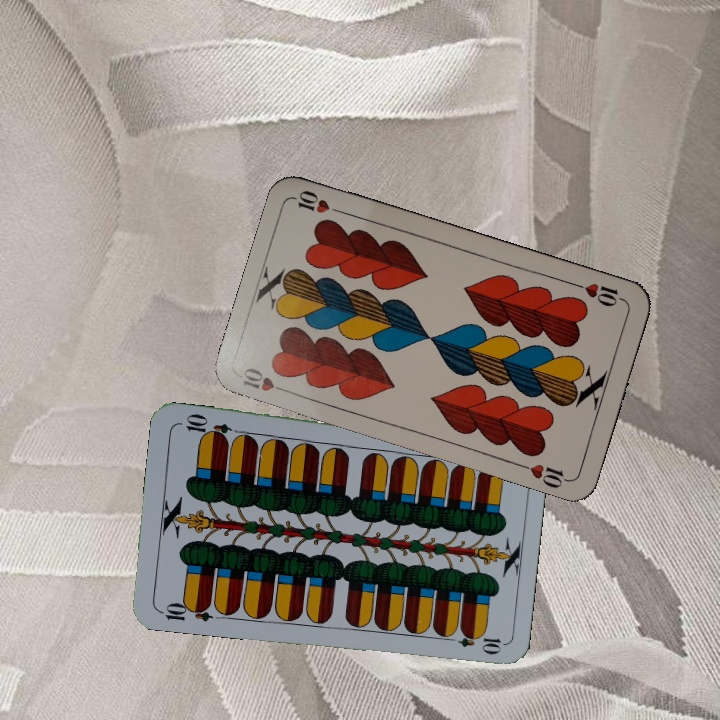E10: (155, 597, 214, 624)
H10: (239, 363, 294, 396), (570, 278, 627, 309)
